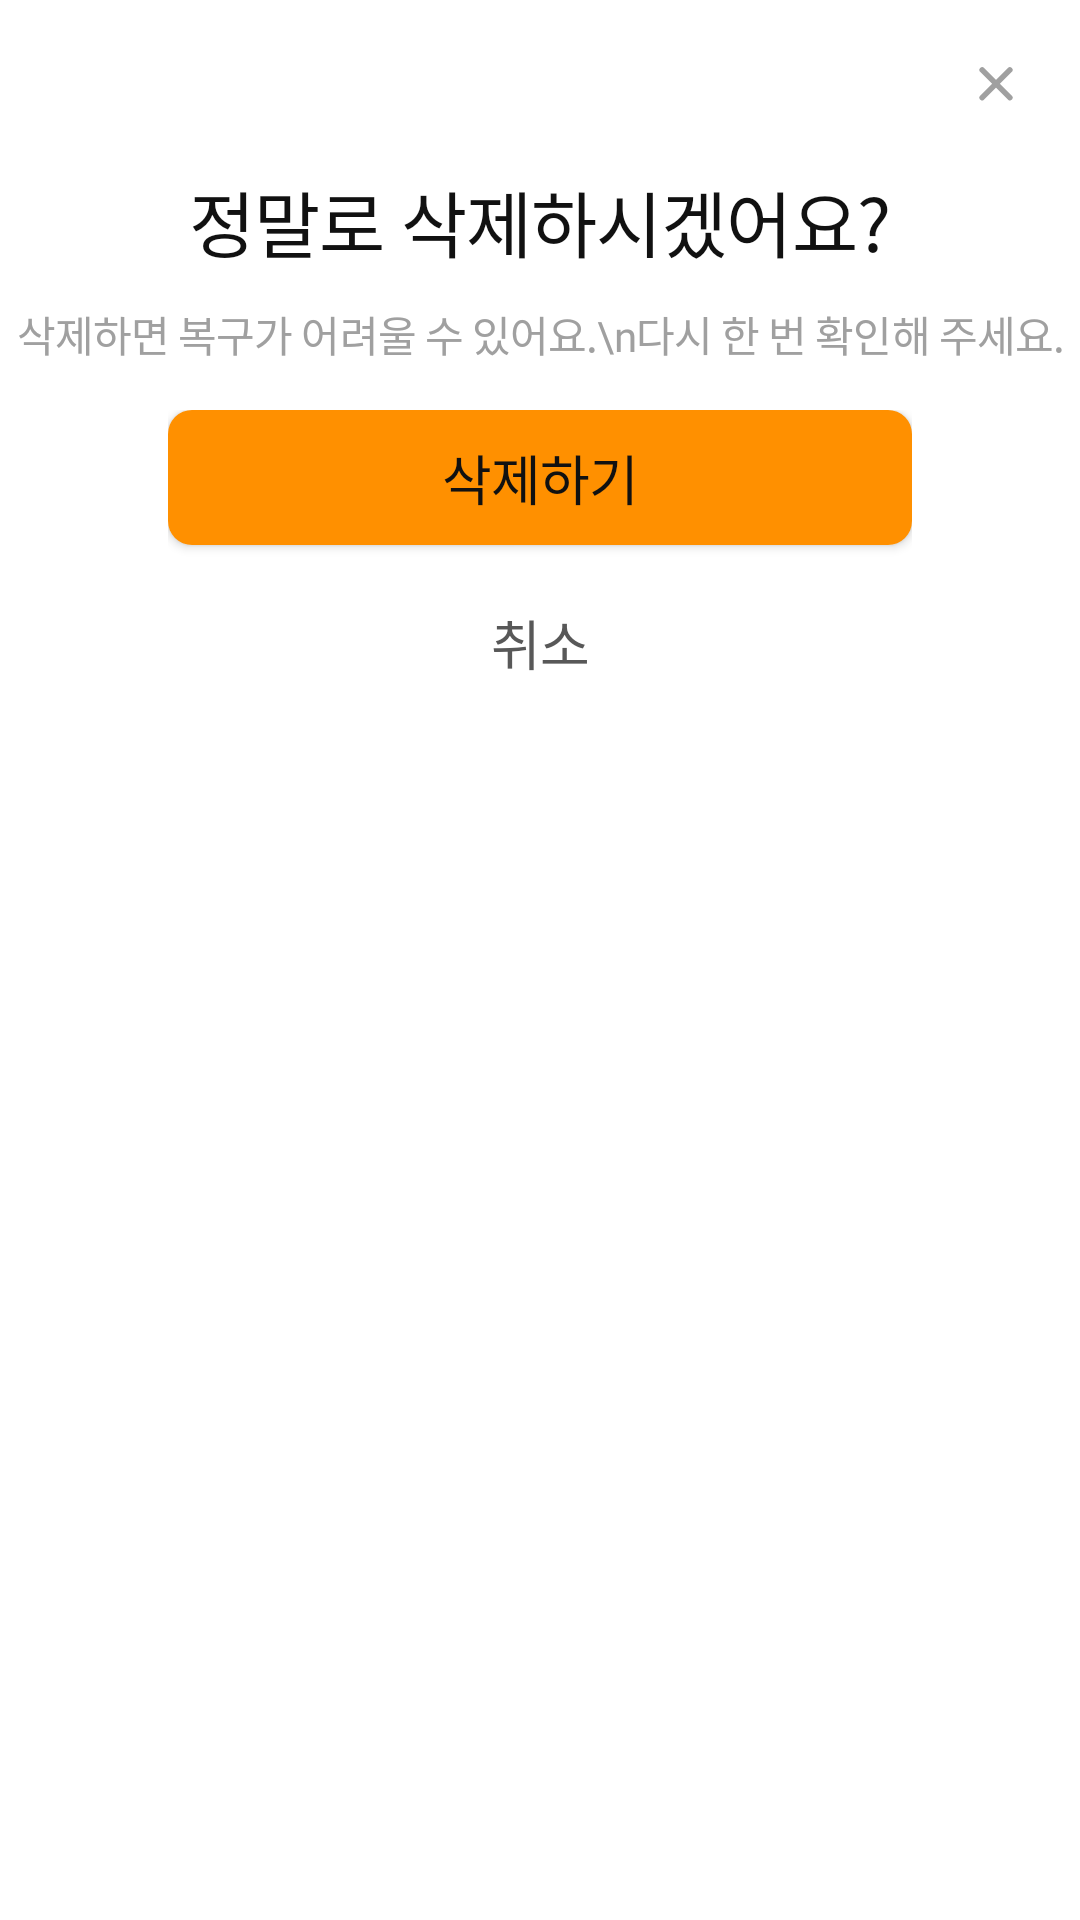

Locate icon controls on the screen. Image size 1080px×1920px, boxes as rect(x1, y1, x2, y2).
report dialog close: rect(979, 67, 1013, 101)
